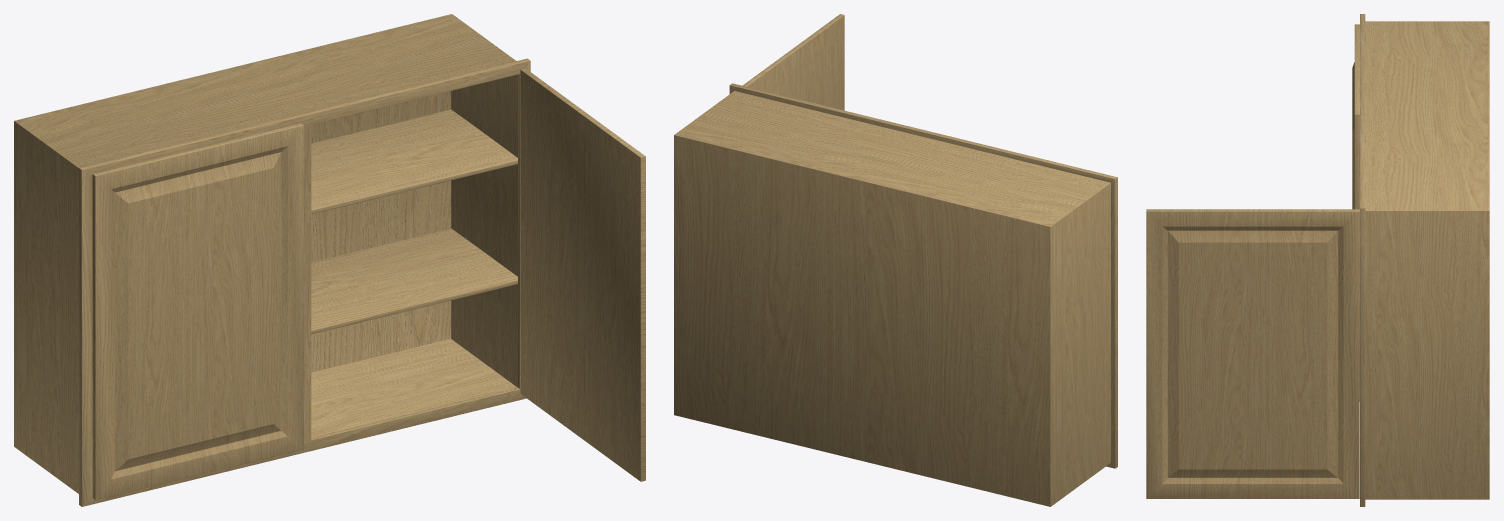
File: kitchen_cabinet.glb
3 renders of one model, left to right at view 1: azimuth 30°, elevation 25°; view 2: azimuth 150°, elevation 25°; view 3: azimuth 270°, elevation 25°, orthographic. The views are drawn at different scales.
Parts seen in each view (by area): view 1: Object_2; view 2: Object_2; view 3: Object_2.
Boxes of the visible parts, <box> form: Object_2: <box>14,14,645,506</box>; Object_2: <box>674,14,1117,506</box>; Object_2: <box>1146,14,1489,506</box>.
Size of the model in its own units: 42.5 by 30.5 by 31.77.
Materials: 1 (1 with a texture image).
